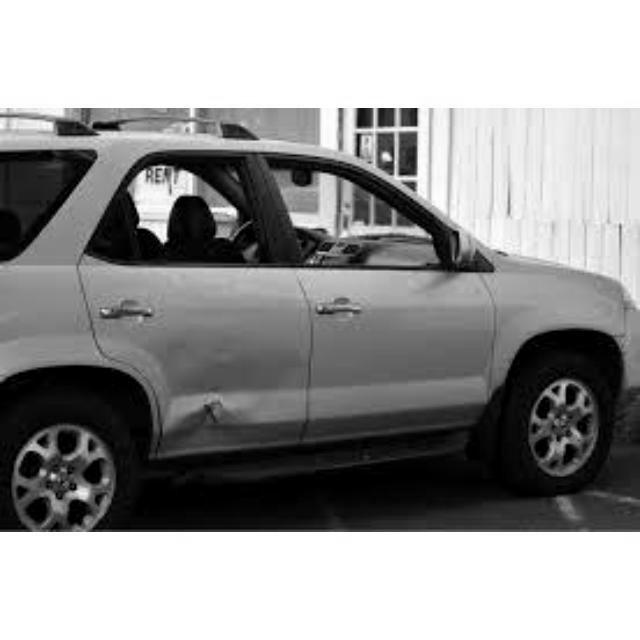doorouter-dent: (138, 260, 309, 461)
